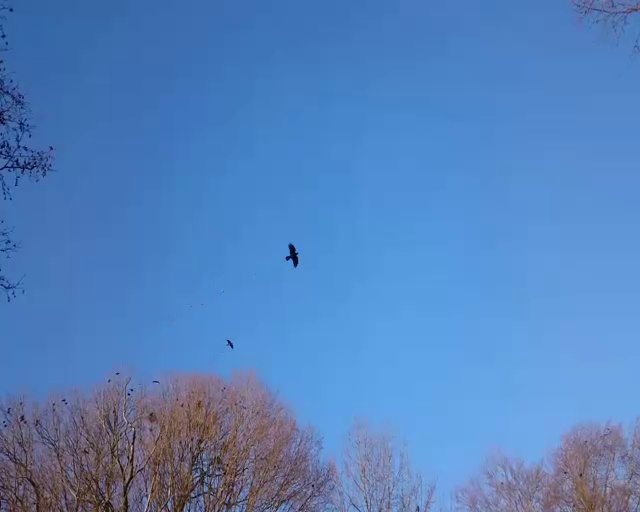BIRD: (286, 242, 299, 268)
